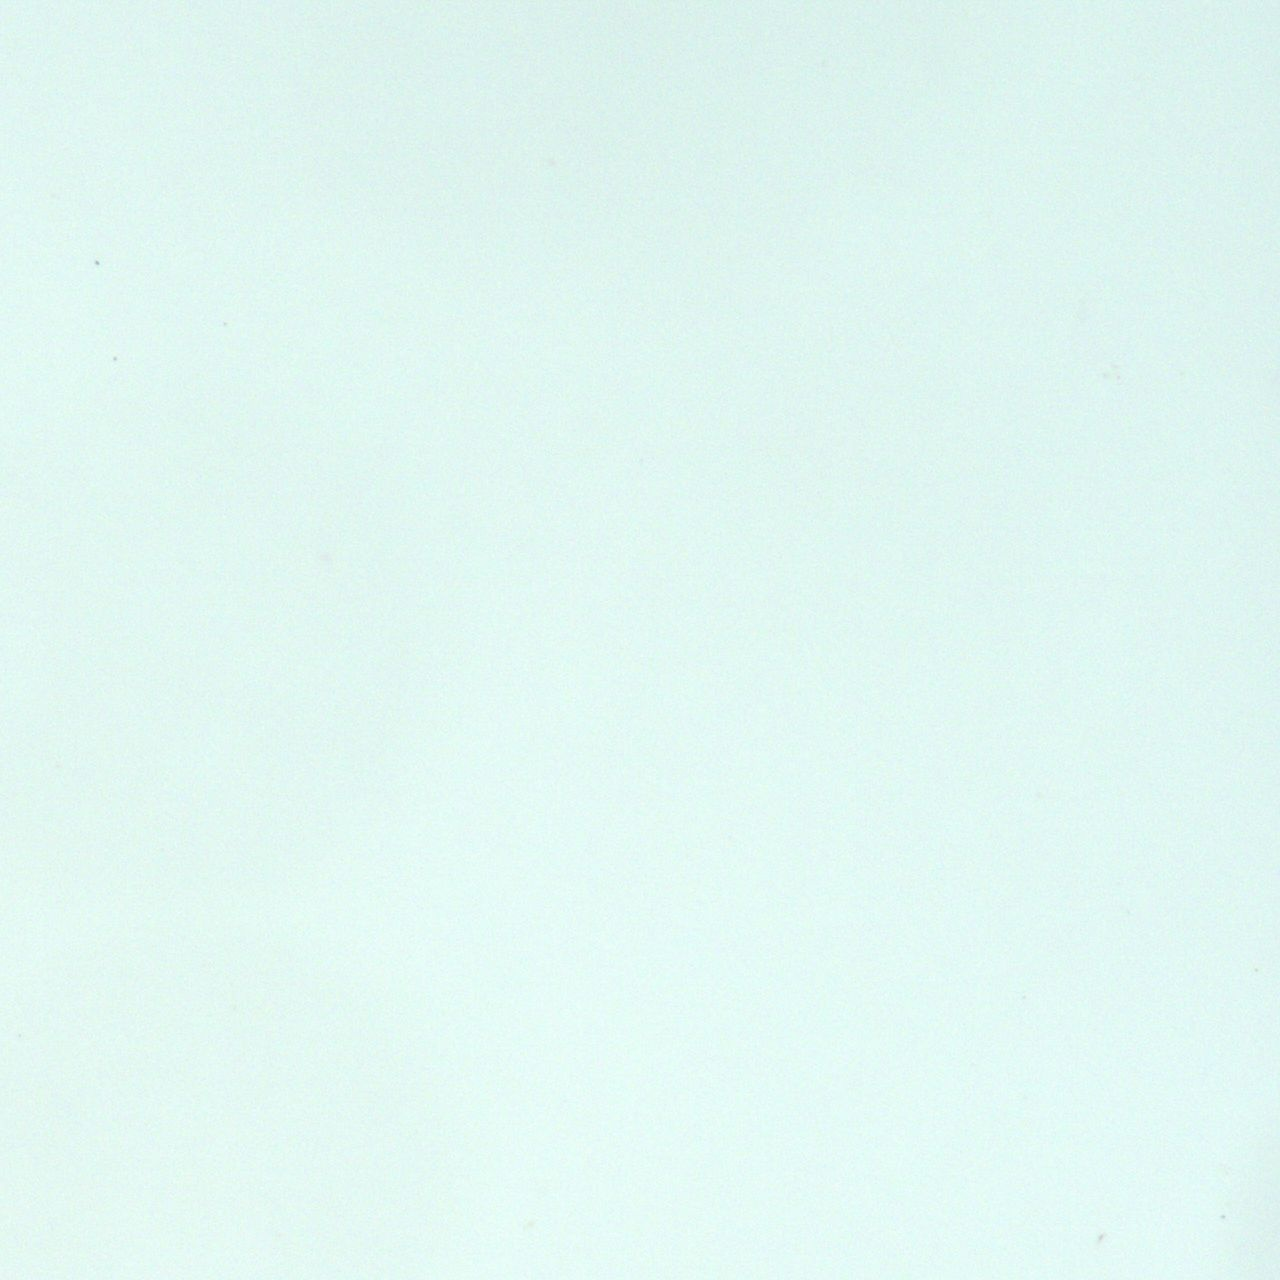dust: (94, 260, 100, 266), (112, 356, 118, 362)
